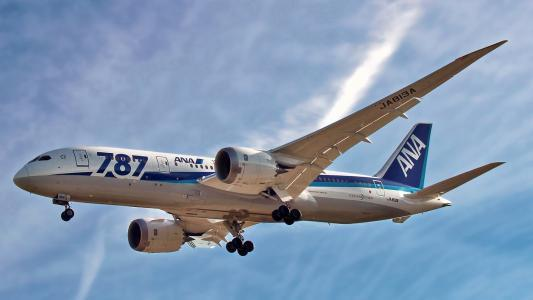airplane: (10, 39, 522, 255)
